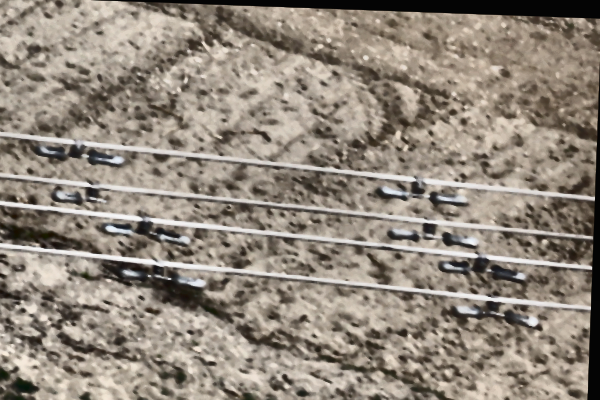damper: (94, 211, 194, 251), (448, 288, 541, 330), (385, 212, 481, 249), (371, 172, 471, 206), (436, 249, 529, 283), (35, 135, 125, 170), (114, 259, 207, 291)
damper_defect: (46, 177, 111, 208)
